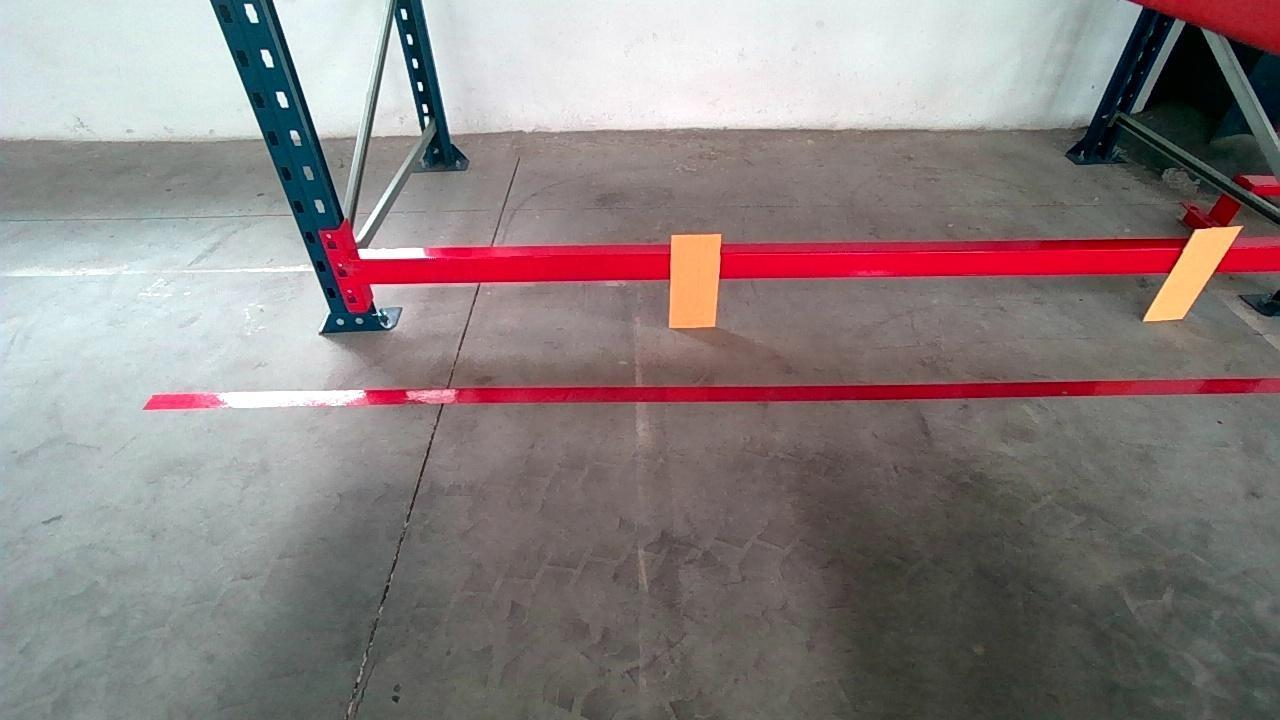h_rack: (364, 243, 1280, 284)
orange_strip: (1146, 226, 1240, 318), (669, 233, 721, 326)
red_line: (139, 377, 1280, 411)
